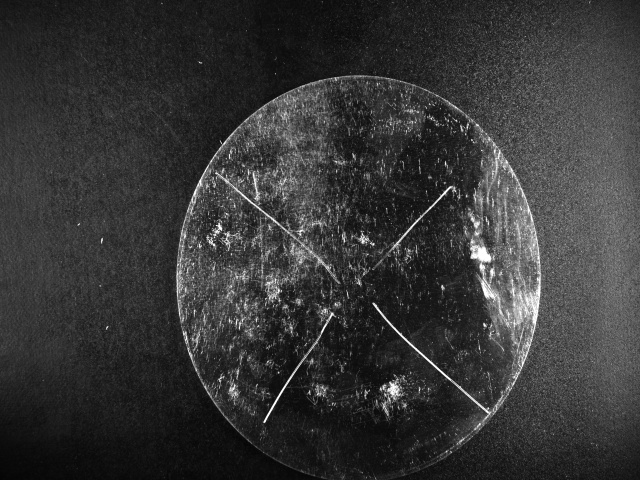ca_shang: (212, 172, 345, 286), (365, 298, 491, 418), (258, 309, 341, 437), (366, 175, 452, 274)
